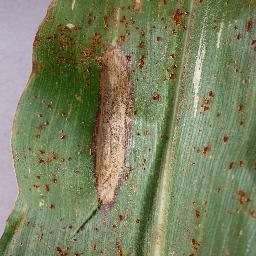Corn_Blight: (75, 0, 151, 220), (27, 1, 72, 219), (152, 2, 255, 58), (3, 222, 135, 255), (151, 59, 178, 159), (11, 86, 25, 219), (188, 191, 209, 256), (193, 132, 237, 160), (179, 60, 195, 115), (230, 189, 255, 220), (229, 67, 253, 91), (200, 87, 216, 122), (226, 160, 256, 177), (233, 104, 247, 129), (216, 184, 221, 196)
